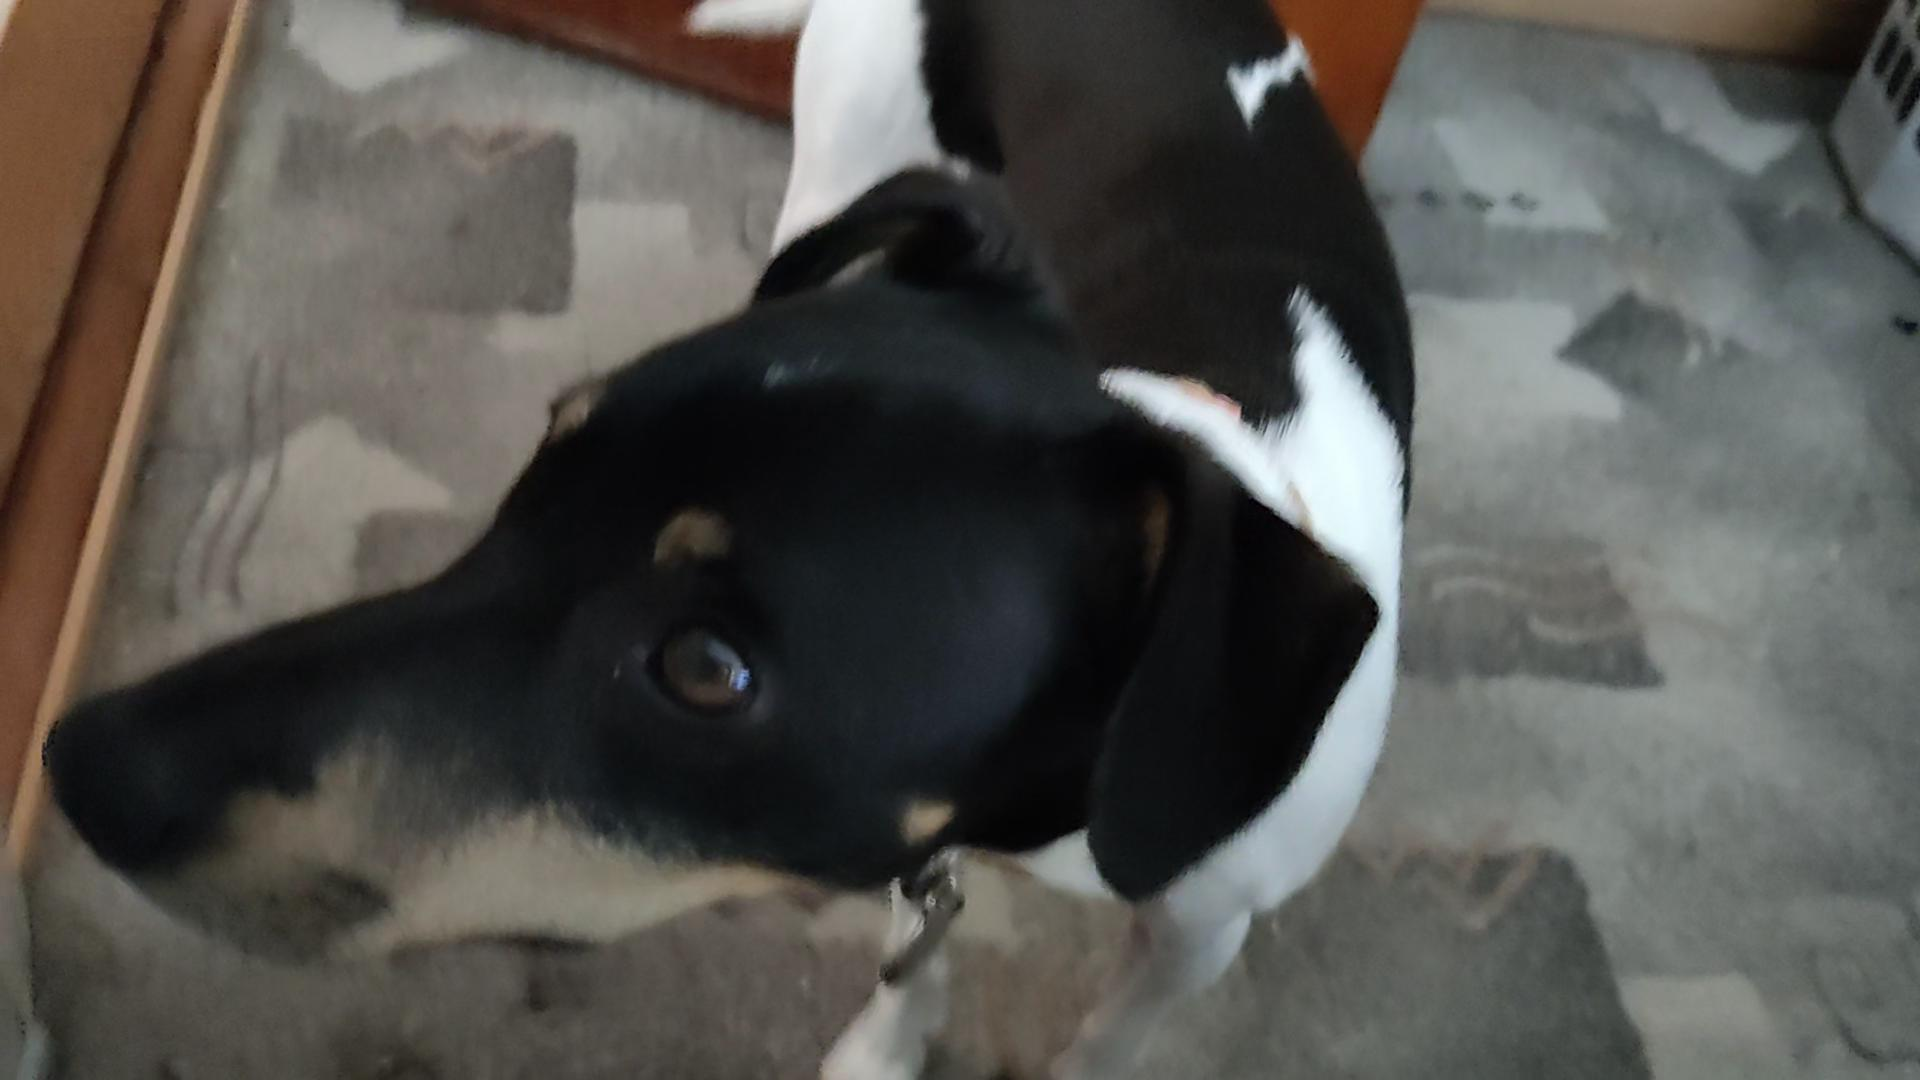Dog: (33, 0, 1439, 1079)
